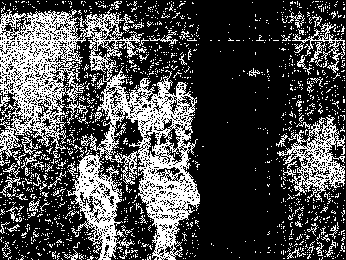person: (140, 144, 200, 259), (73, 153, 121, 260), (172, 80, 196, 171), (102, 75, 129, 154), (151, 76, 178, 147), (130, 78, 158, 145)
